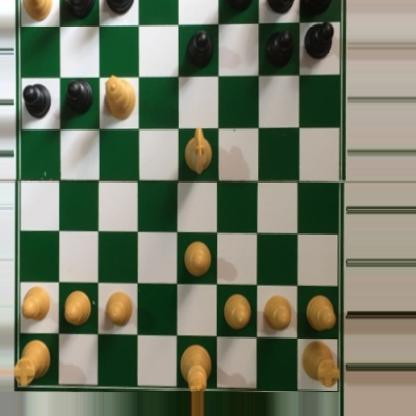black-bishop: (104, 0, 136, 16), (224, 0, 255, 11)
black-king: (59, 0, 96, 20)
black-knight: (267, 0, 297, 17)
black-pawn: (304, 19, 335, 60), (185, 28, 214, 70), (263, 28, 292, 69), (21, 83, 51, 120), (64, 79, 94, 115)
black-rook: (299, 0, 339, 16)
white-bishop: (16, 0, 53, 22)
white-king: (178, 335, 212, 393)
white-knight: (184, 124, 213, 174)
white-pawn: (20, 279, 52, 323), (304, 292, 338, 332), (62, 288, 94, 327), (261, 292, 292, 332), (103, 290, 135, 327), (183, 241, 213, 278), (223, 292, 252, 330)
white-queen: (103, 74, 136, 122)
white-rook: (300, 337, 341, 389), (14, 336, 52, 387)
